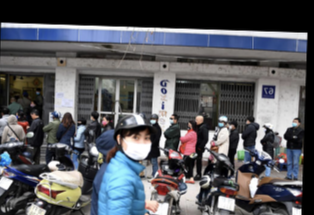with_mask: (120, 130, 152, 163), (149, 116, 156, 126), (290, 119, 298, 127), (185, 122, 191, 131), (168, 116, 174, 125), (100, 117, 106, 126), (217, 120, 224, 127), (28, 101, 34, 108), (34, 89, 40, 95), (228, 123, 233, 130), (75, 119, 80, 126), (88, 114, 92, 121), (14, 113, 18, 120), (263, 125, 266, 133)
without_mask: (193, 116, 201, 125), (28, 112, 35, 120)
